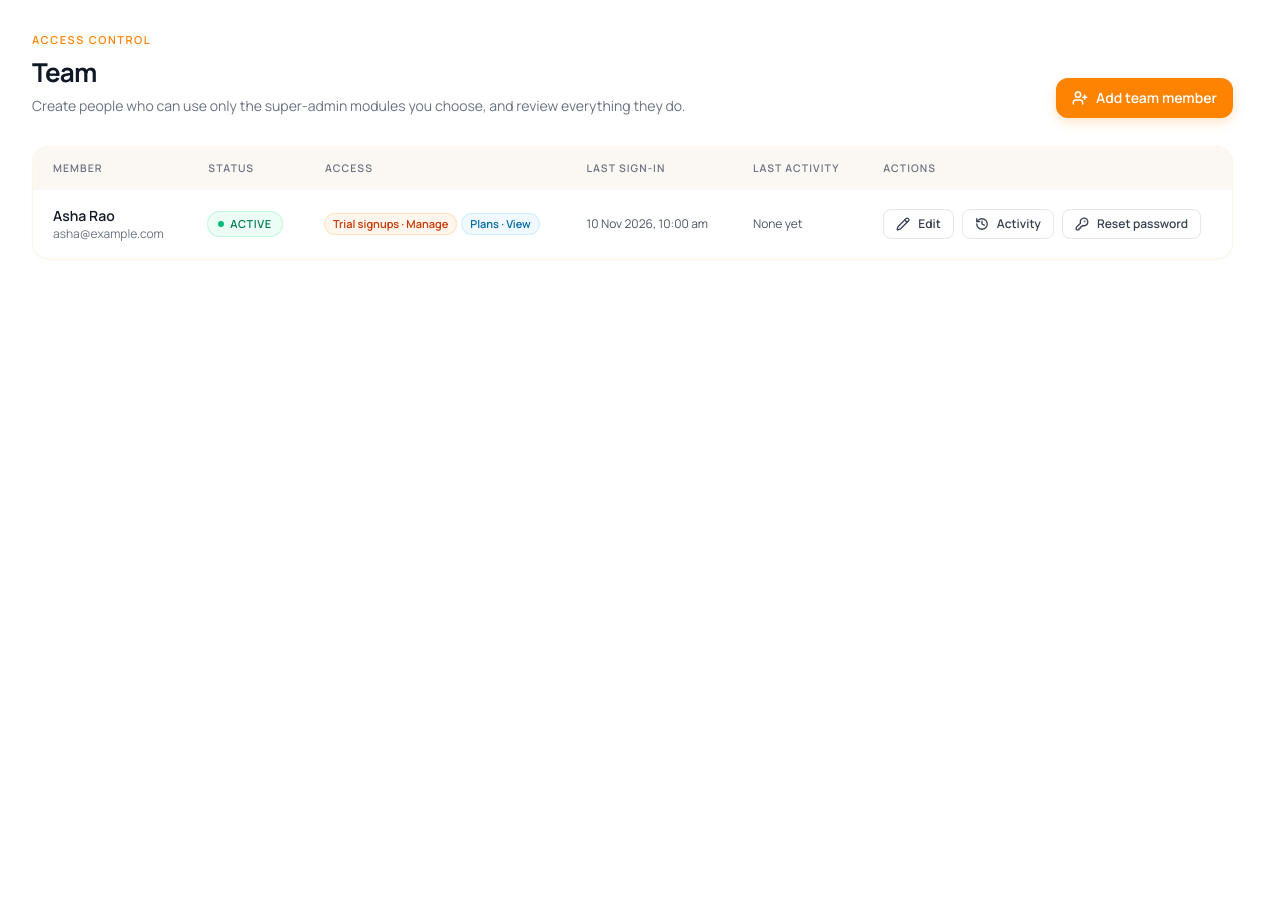
Test: Add member › hides Manage for view-only modules
This screenshot has width=1280, height=900.
Step 1. Click the button "Add team member" → click(1144, 98), box [1056,78,1233,118]
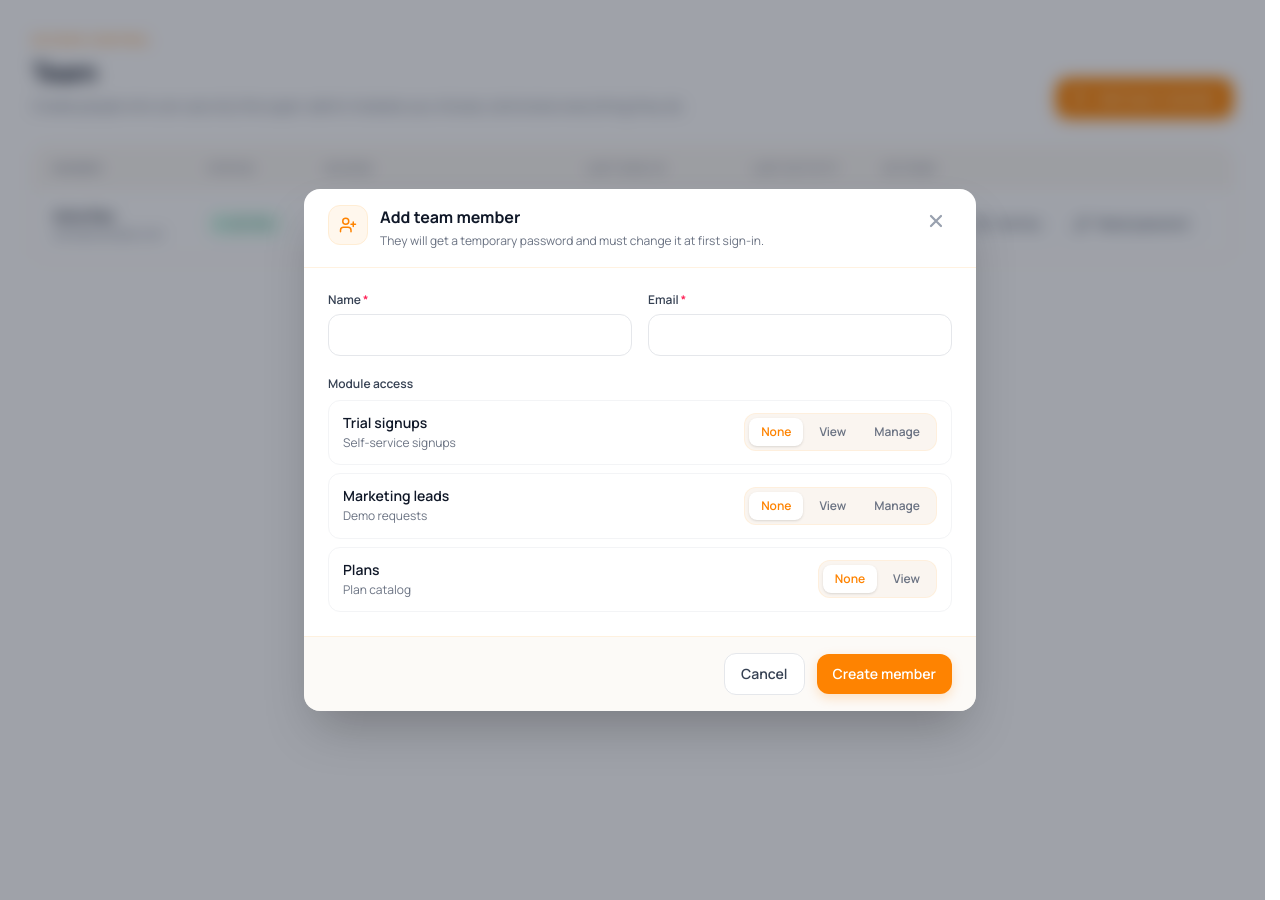
Expected: the field labelled "Name" is shown, [328,314,632,356]
Expected: the radio button with aria-label "Trial signups: Manage" is shown, [862,418,932,446]
Expected: the radio button with aria-label "Plans: View" is shown, [881,565,932,593]
